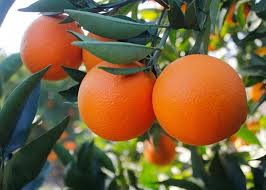orange: (154, 52, 249, 146), (81, 61, 158, 140), (21, 15, 85, 81), (81, 22, 146, 82)
